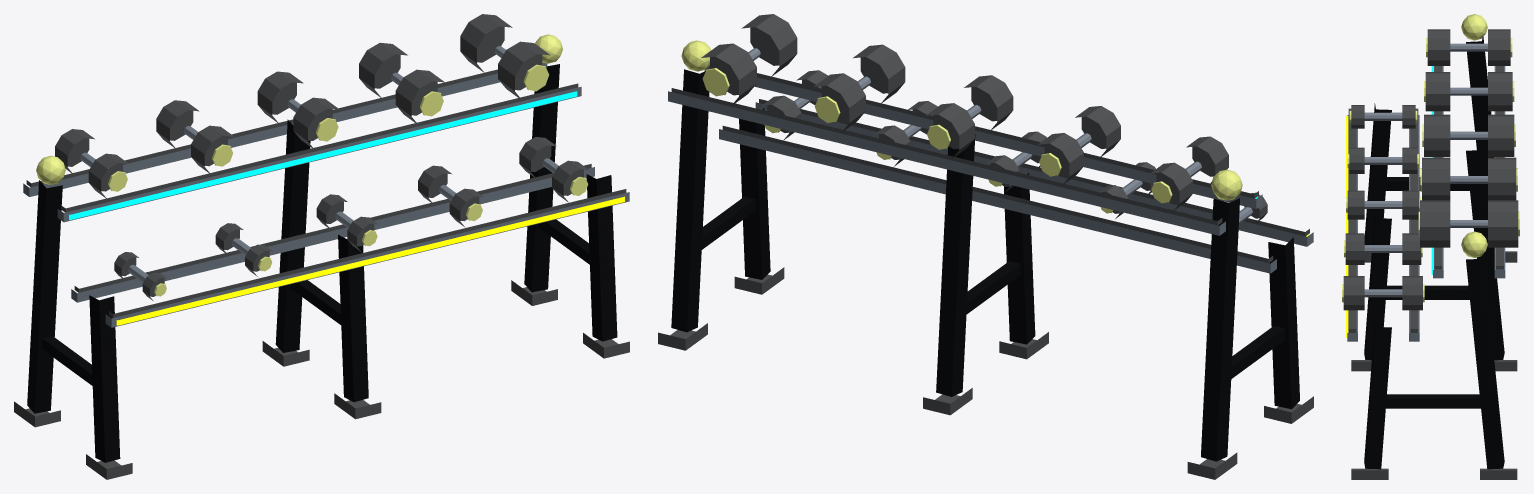
The model's file is tt_gym_dumbbell_rack.glb.
3 renders of one model, left to right at view 1: azimuth 30°, elevation 25°; view 2: azimuth 150°, elevation 25°; view 3: azimuth 270°, elevation 25°, orthographic. The views are drawn at different scales.
Visible parts, largest first — view 1: Frame_Legs, Tier1_Bell_Heads, Tier0_Rails, Tier0_Bell_Heads, Tier1_Rails, Tier0_Pads, Tier1_Pads, Rubber_Feet, Tier1_LED, Tier0_LED, Tier1_End_Caps, Ball_Finials (+2 smaller); view 2: Frame_Legs, Tier1_Bell_Heads, Tier1_Rails, Tier0_Rails, Rubber_Feet, Tier1_Pads, Tier0_Pads, Tier0_Bell_Heads, Tier1_End_Caps, Ball_Finials, Tier0_Grips; view 3: Frame_Legs, Tier1_Bell_Heads, Tier0_Bell_Heads, Tier0_Pads, Rubber_Feet, Tier0_Grips, Tier1_Grips, Ball_Finials, Tier0_Rails, Tier1_Pads, Tier1_End_Caps, Tier1_Rails (+2 smaller).
Part boxes in pixels (<box>): Frame_Legs: <box>27,64,617,462</box>; Tier1_Bell_Heads: <box>55,14,550,199</box>; Tier0_Rails: <box>71,167,629,327</box>; Tier0_Bell_Heads: <box>114,137,588,300</box>; Tier1_Rails: <box>23,62,581,222</box>; Tier0_Pads: <box>74,164,626,317</box>; Tier1_Pads: <box>26,69,578,212</box>; Rubber_Feet: <box>14,280,629,479</box>; Tier1_LED: <box>69,91,577,220</box>; Tier0_LED: <box>116,196,624,325</box>; Tier1_End_Caps: <box>108,64,548,191</box>; Ball_Finials: <box>36,34,562,184</box>; Frame_Legs: <box>671,69,1299,461</box>; Tier1_Bell_Heads: <box>701,14,1228,211</box>; Tier1_Rails: <box>668,65,1262,235</box>; Tier0_Rails: <box>719,102,1313,273</box>; Rubber_Feet: <box>658,267,1313,479</box>; Tier1_Pads: <box>671,73,1258,225</box>; Tier0_Pads: <box>722,99,1309,262</box>; Tier0_Bell_Heads: <box>762,70,1267,222</box>; Tier1_End_Caps: <box>702,68,1172,203</box>; Ball_Finials: <box>681,40,1242,200</box>; Tier0_Grips: <box>781,97,1252,223</box>; Frame_Legs: <box>1364,36,1504,469</box>; Tier1_Bell_Heads: <box>1420,29,1518,247</box>; Tier0_Bell_Heads: <box>1343,105,1422,310</box>; Tier0_Pads: <box>1348,108,1418,332</box>; Rubber_Feet: <box>1351,251,1517,479</box>; Tier0_Grips: <box>1364,112,1402,297</box>; Tier1_Grips: <box>1450,43,1487,227</box>; Ball_Finials: <box>1461,14,1487,257</box>; Tier0_Rails: <box>1347,115,1419,341</box>; Tier1_Pads: <box>1434,66,1503,269</box>; Tier1_End_Caps: <box>1418,38,1519,236</box>; Tier1_Rails: <box>1433,66,1505,278</box>.
Size of what is drawn, in the model's own units: 2.02 by 1.05 by 0.663.
Materials: 7 (3 with a texture image).
